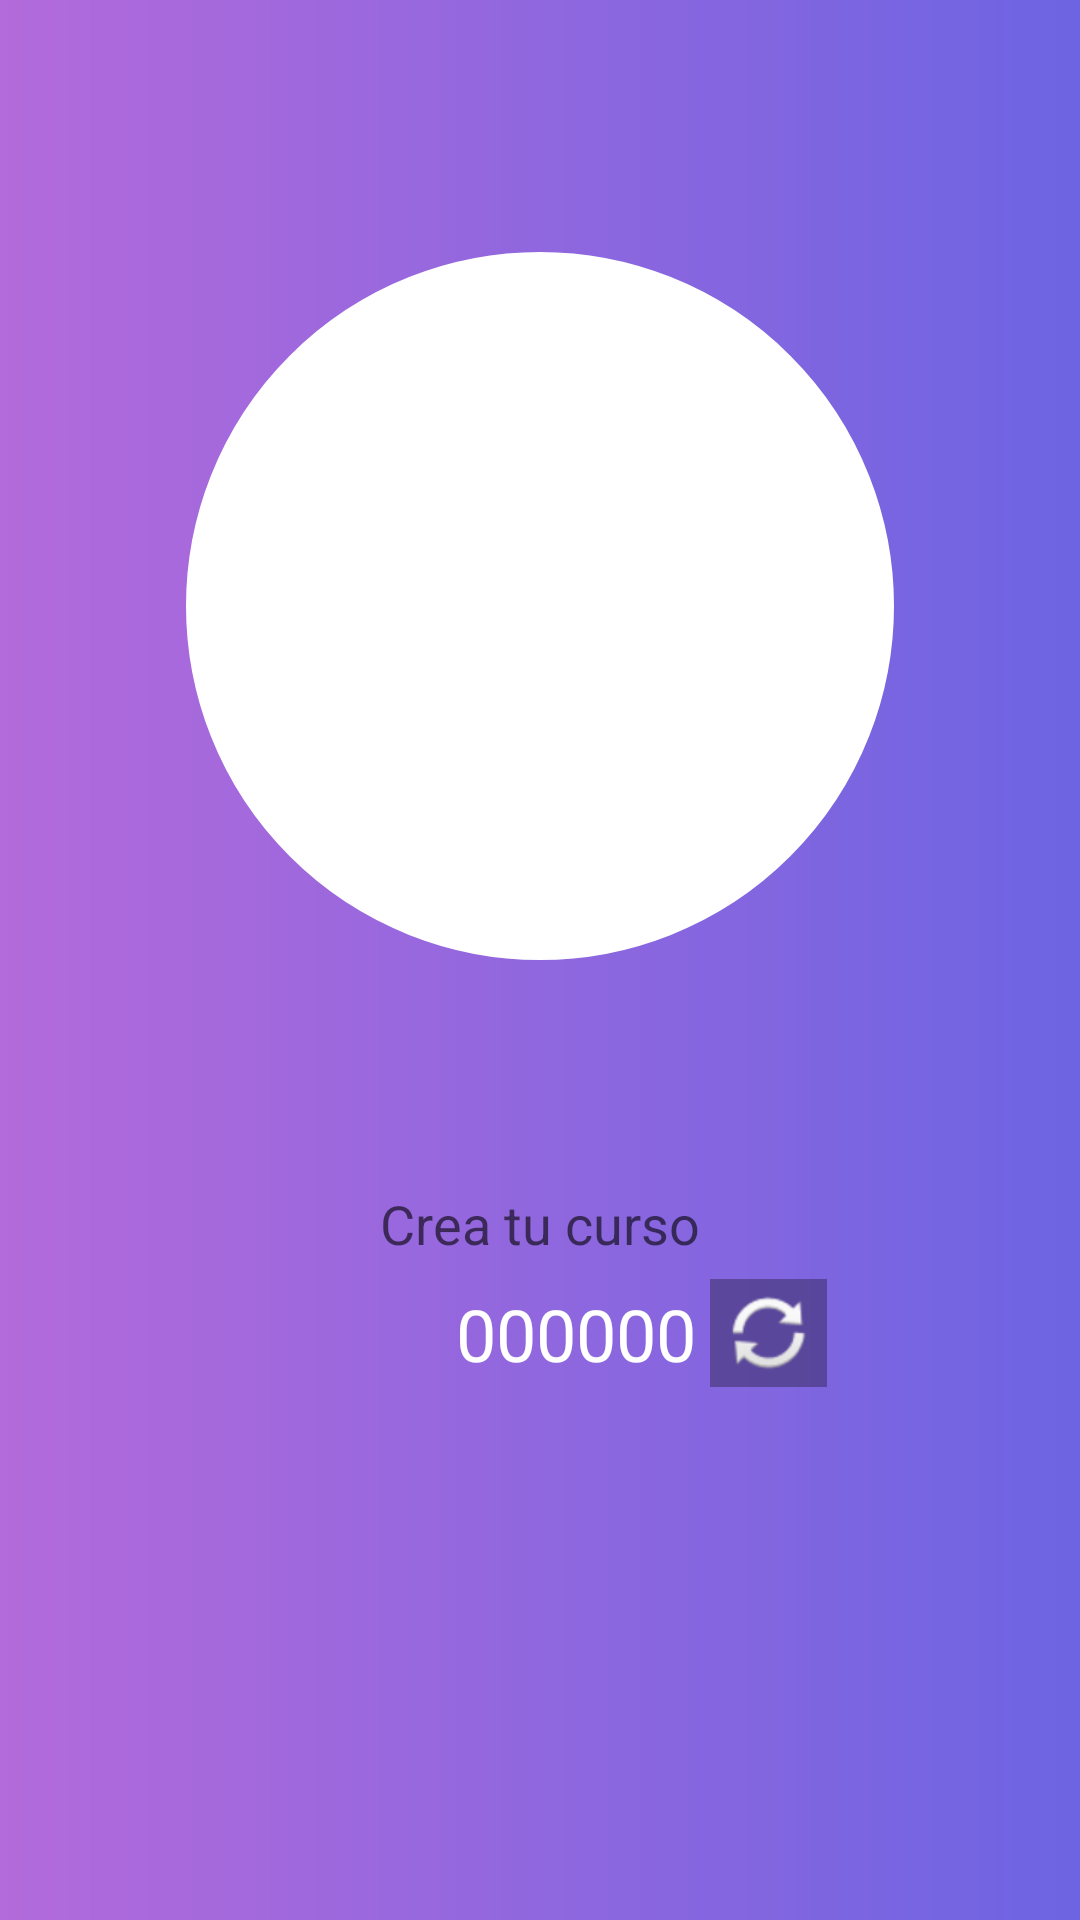

Locate icon controls on the screen. Image size 1080px×1920px, boxes as [x1, y1, x2, y2].
popup sync: [710, 1279, 827, 1387]
